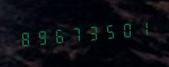eight: (17, 25, 33, 51)
five: (102, 18, 118, 43)
nine: (34, 24, 50, 49)
one: (136, 15, 152, 41)
seven: (68, 21, 84, 46)
six: (51, 22, 67, 48)
three: (85, 19, 101, 45)
zero: (119, 17, 135, 42)
